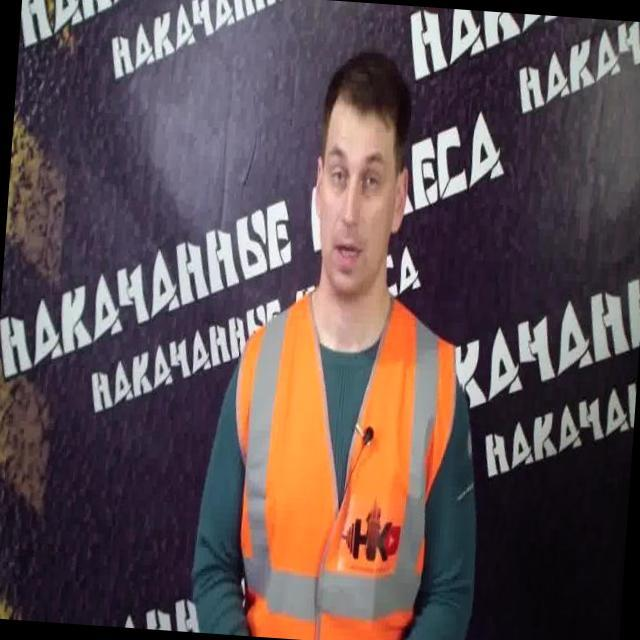Person: (178, 30, 501, 640)
Safety Vest: (219, 286, 467, 640)
no-helmet: (318, 44, 419, 115)
